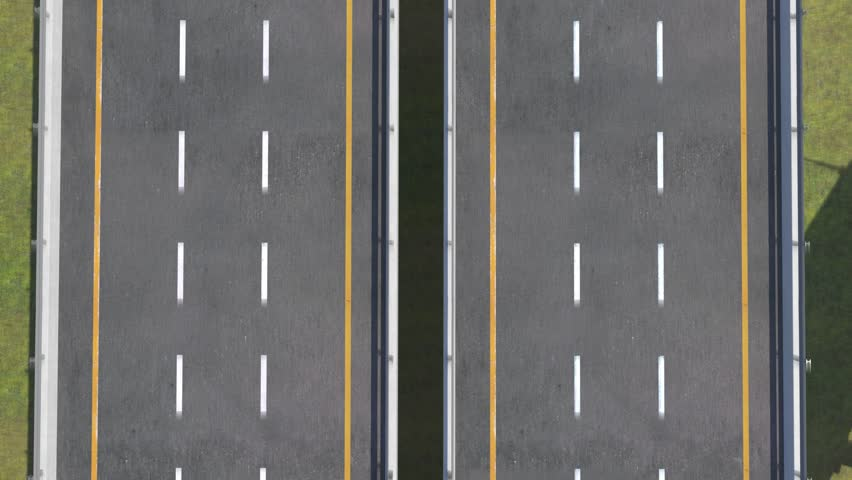LaneMark: (170, 238, 190, 311), (570, 236, 588, 317), (171, 16, 191, 88), (653, 350, 671, 425), (254, 350, 272, 422), (569, 16, 585, 94), (172, 350, 188, 425), (653, 238, 669, 313), (172, 128, 189, 198), (257, 236, 272, 312), (570, 128, 585, 203), (572, 350, 586, 424), (653, 127, 667, 201), (654, 15, 667, 93), (259, 17, 273, 85), (259, 128, 272, 200), (258, 464, 271, 480), (173, 463, 184, 480)
